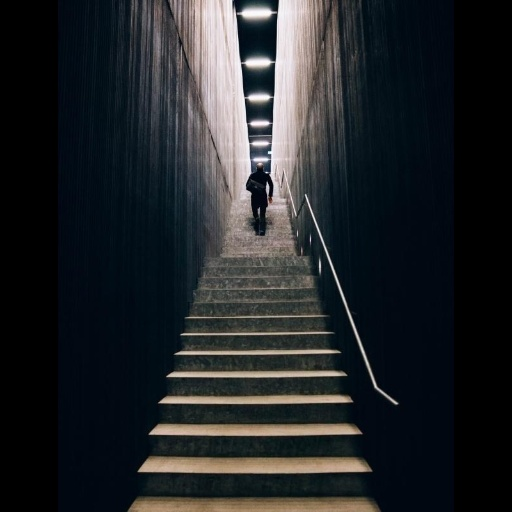Stairs: (128, 193, 379, 512)
